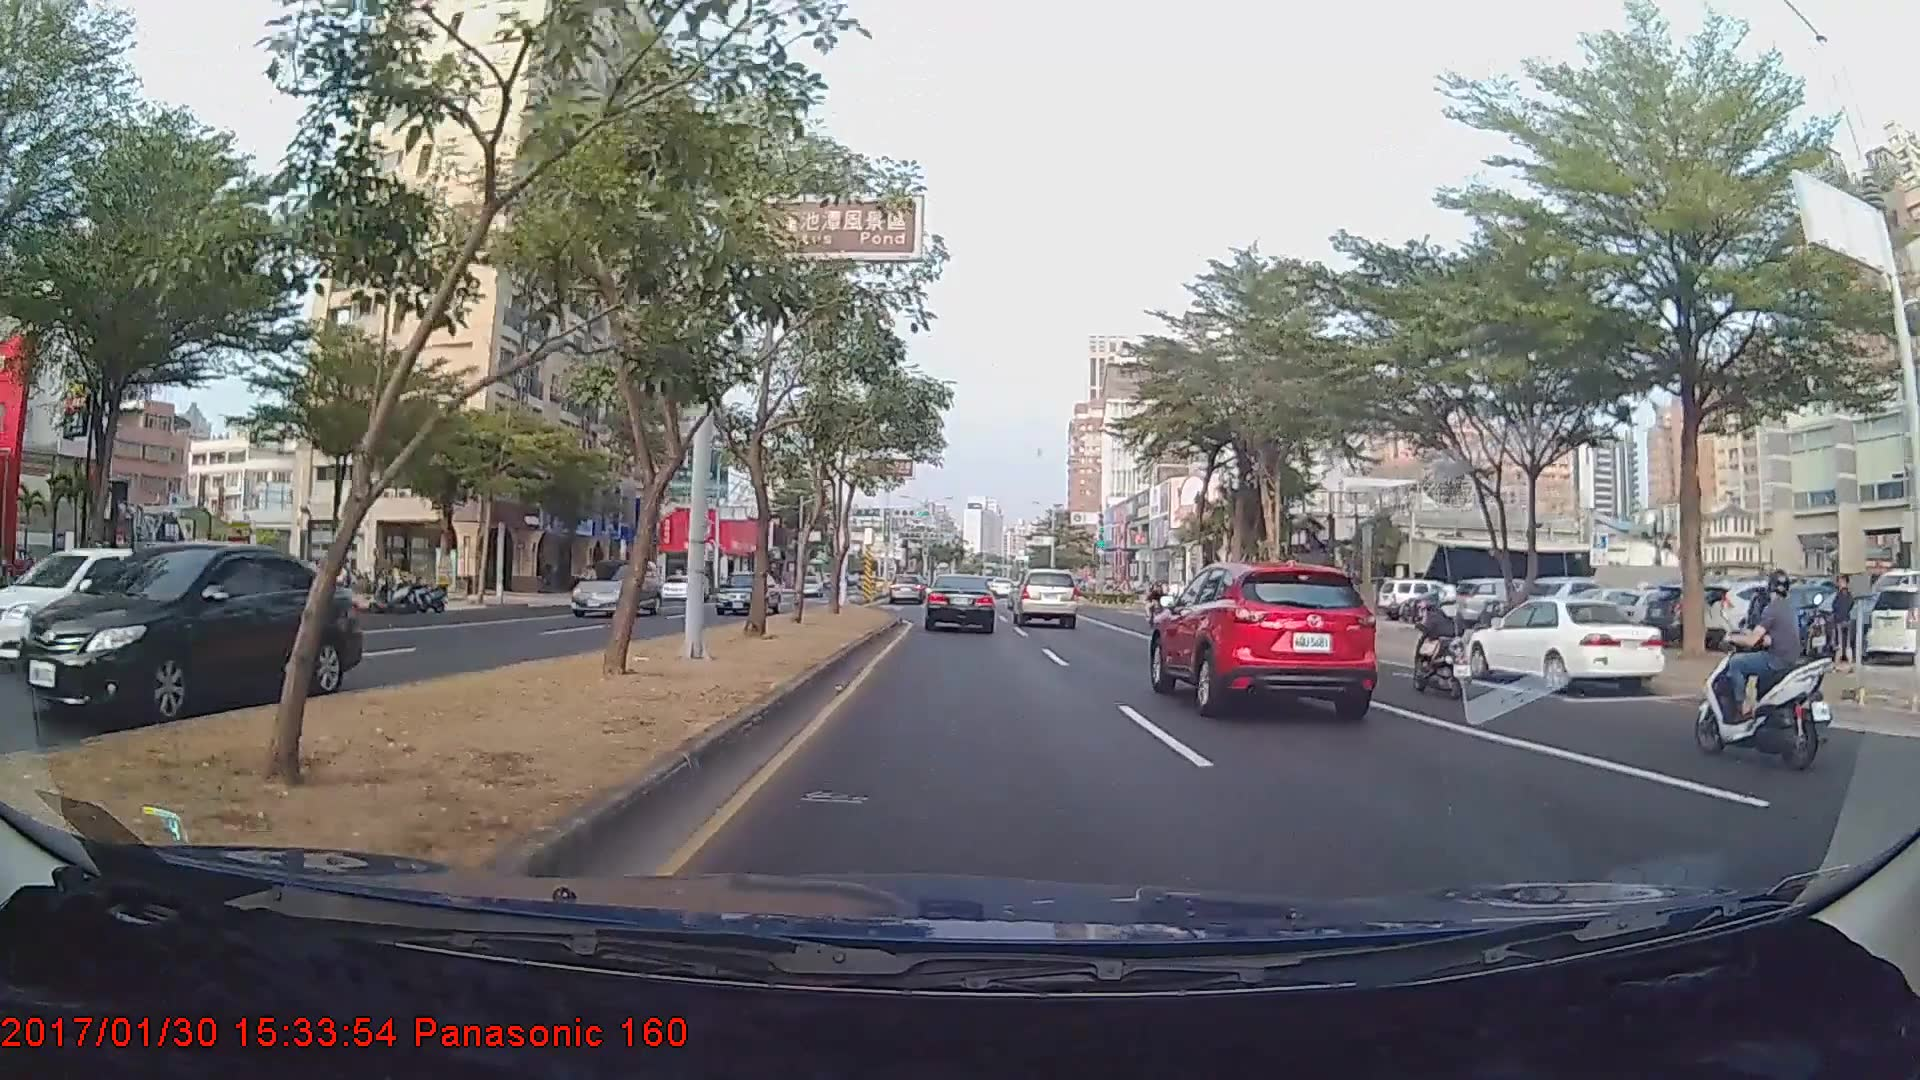pedestrian: (1829, 577, 1859, 672)
rider: (1696, 555, 1836, 775), (1399, 584, 1481, 705)
vehicle: (17, 539, 363, 721), (1147, 562, 1378, 725), (1464, 597, 1670, 696), (568, 557, 663, 619), (923, 572, 997, 633), (1011, 567, 1078, 628), (713, 568, 779, 616), (888, 573, 928, 605), (662, 571, 690, 600), (794, 576, 824, 599)
